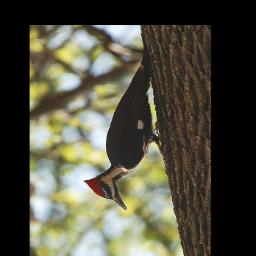Woodpecker: (83, 32, 173, 211)
